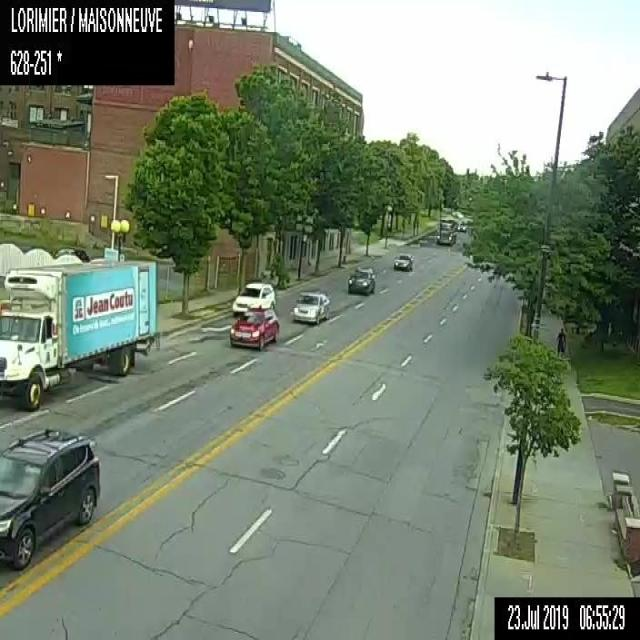pedestrian: (555, 326, 566, 354)
vehicle: (0, 253, 157, 411), (0, 428, 101, 572), (229, 309, 279, 352), (231, 281, 275, 313), (291, 289, 330, 325), (346, 266, 376, 295), (436, 218, 457, 243), (392, 252, 413, 271), (457, 222, 466, 232)
